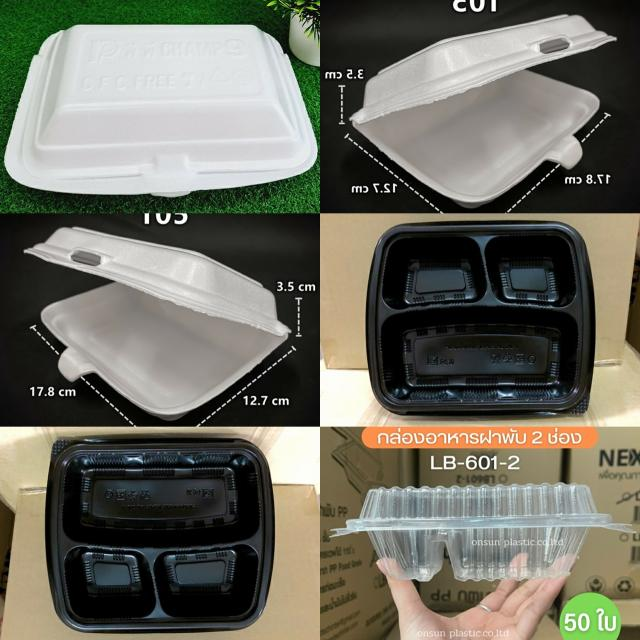Single-Use-Plastic: (5, 25, 316, 196), (350, 15, 615, 208), (25, 228, 290, 420), (45, 438, 274, 632), (367, 222, 594, 414), (334, 482, 634, 581)
